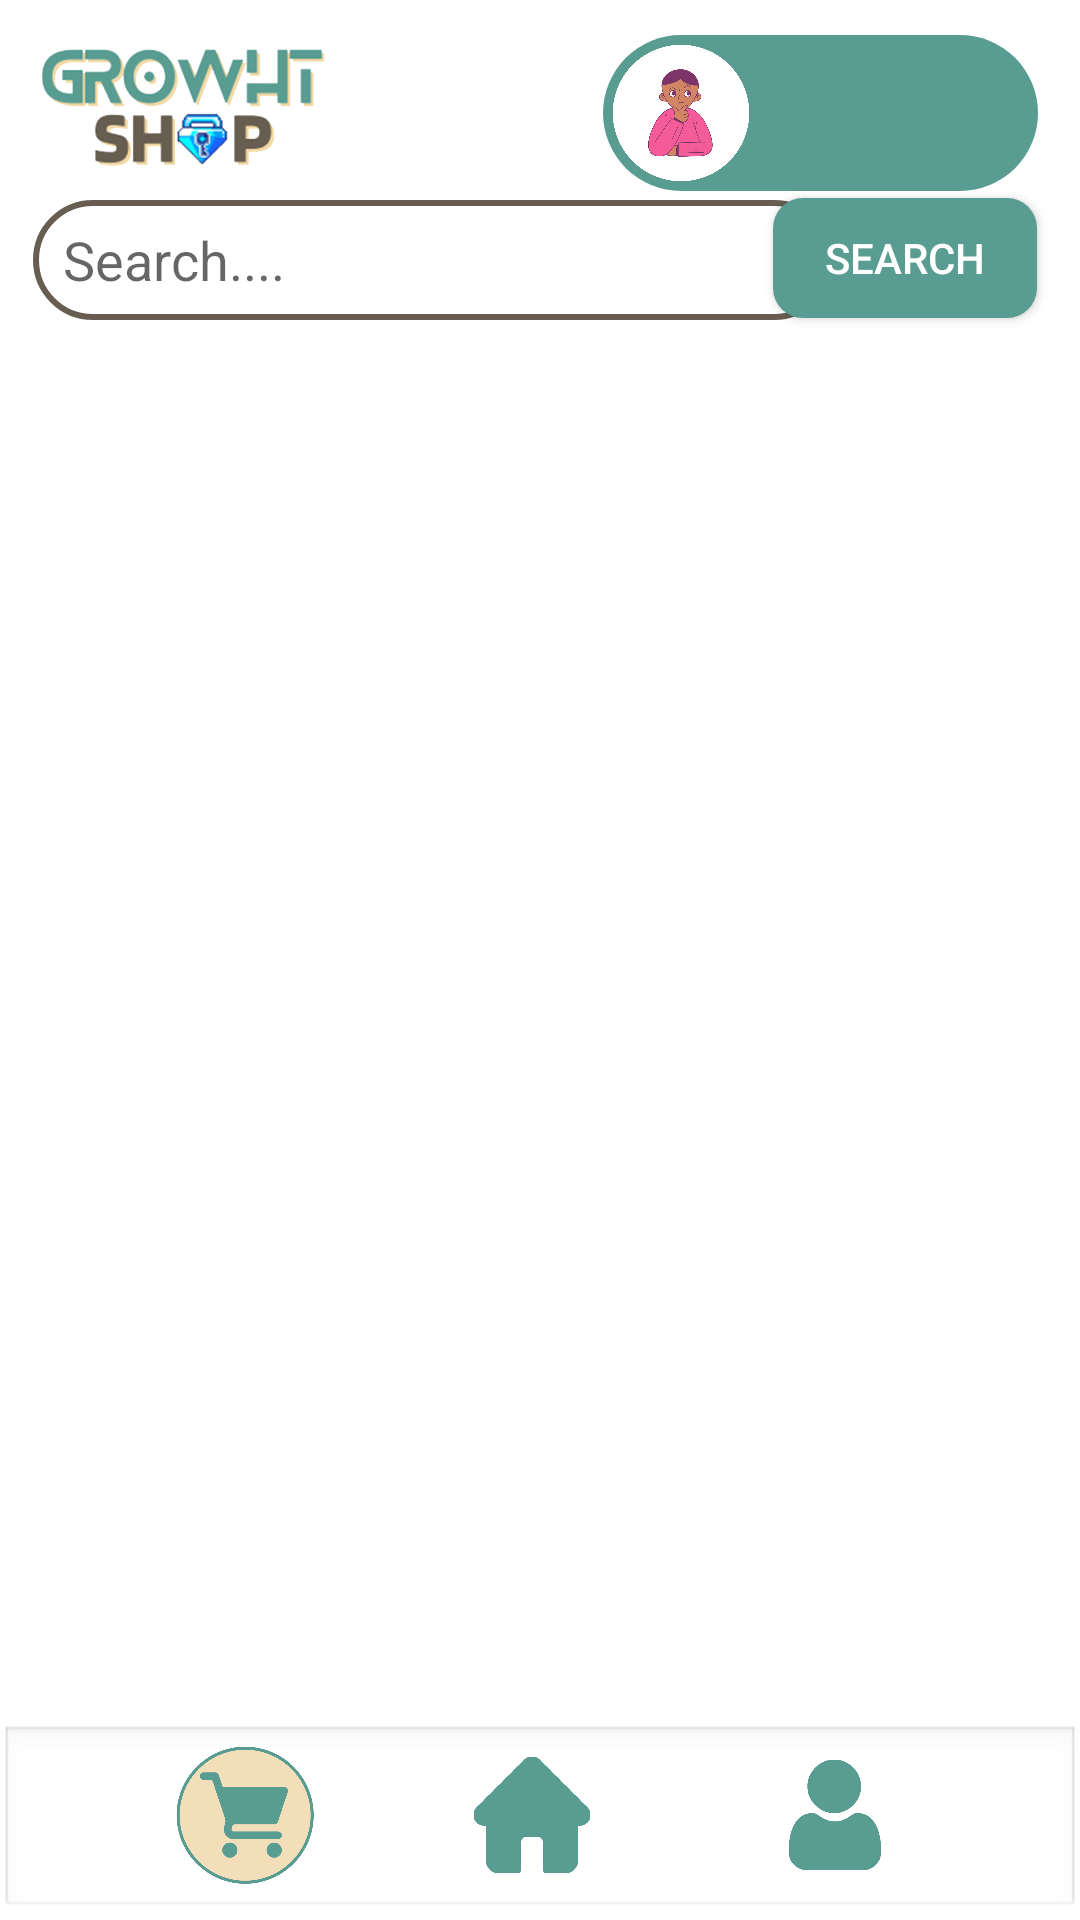

Icons on this 1080 x 1920 Android screen, each with the point to tap as point (x, y):
acc: point (835, 1815)
cart chs: point (245, 1815)
home: point (532, 1815)
